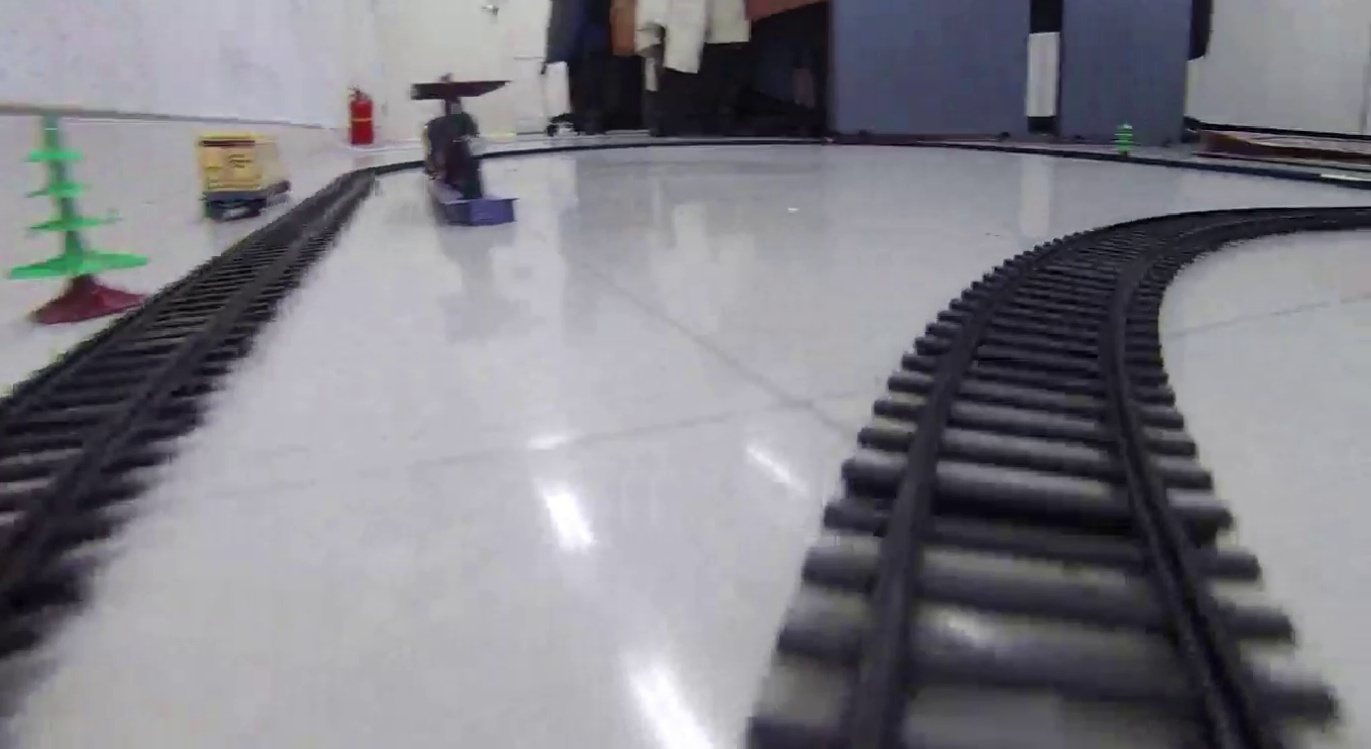tree: (5, 109, 157, 320)
